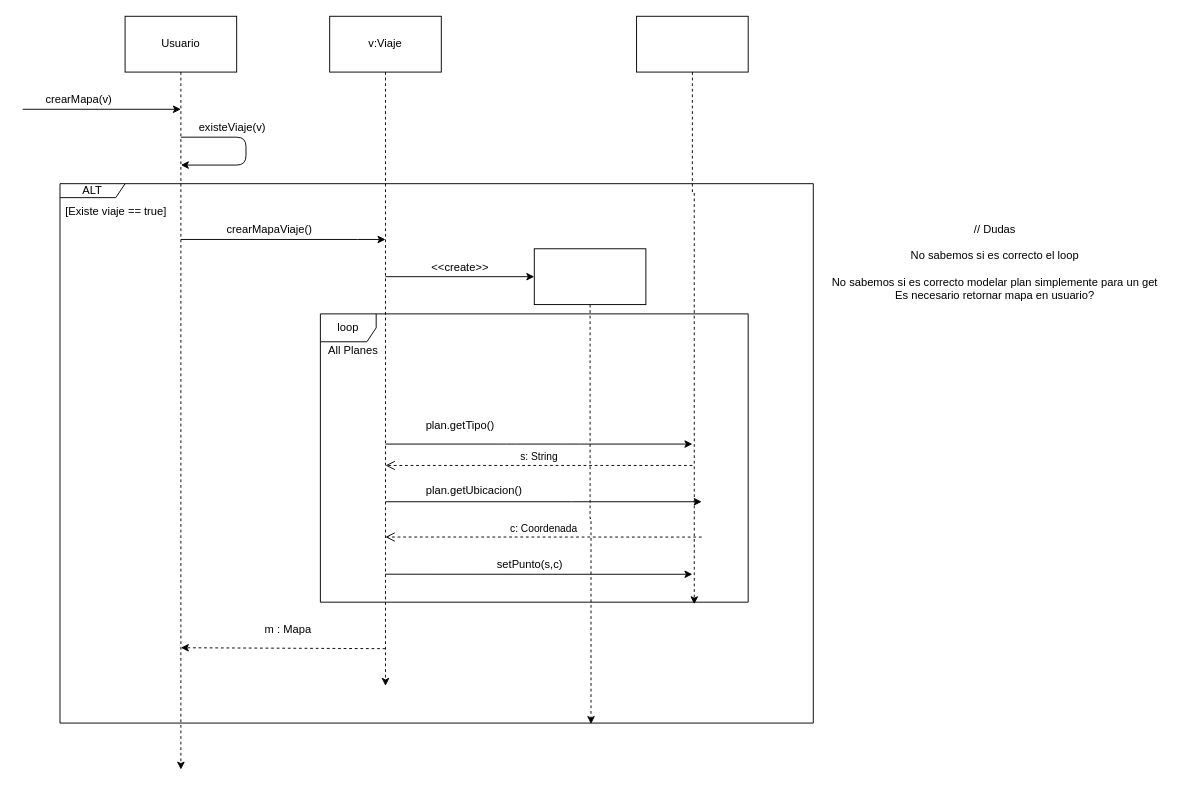
This 1183x793 diagram has some shape labels left out. The shapes that lost their labels are listed below. From the top down, each one's centre as x and y in pixels, then its label:
the point at 692,43: Plan
the point at 589,276: m:Mapa
